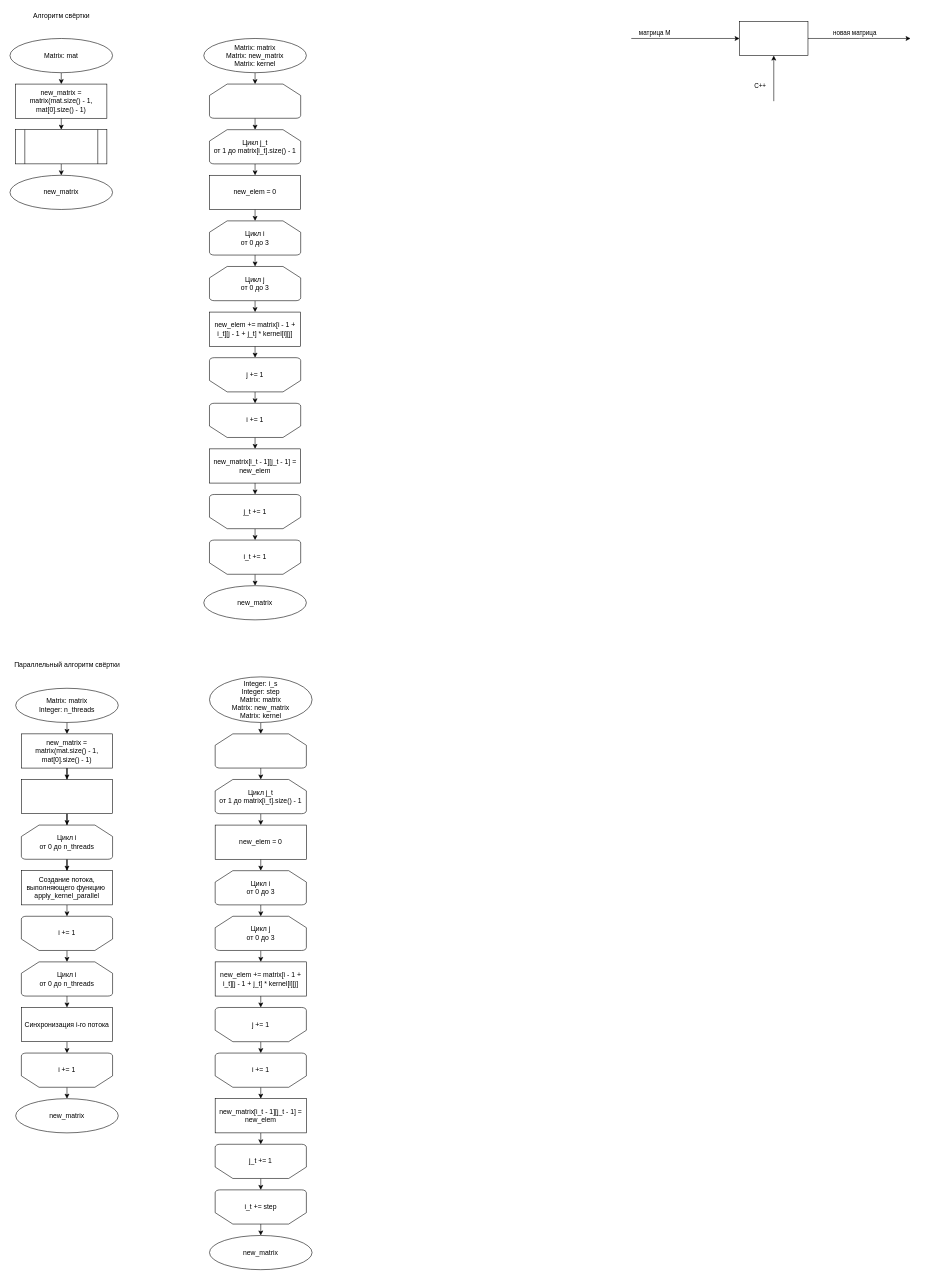
The diagram is 925 pixels wide and 1280 high, and some of its shapes have lost their labels. Each missing label, with the centre of its shape:
Vector: threads: the point at 67,796
Вызов функции apply_kernel: the point at 61,146
Фильтрация матрицы M: the point at 773,38
Цикл i_t от 1 до matrix.size() - 1: the point at 255,101
Цикл i_t от i_s до matrix.size() - 1: the point at 260,750
